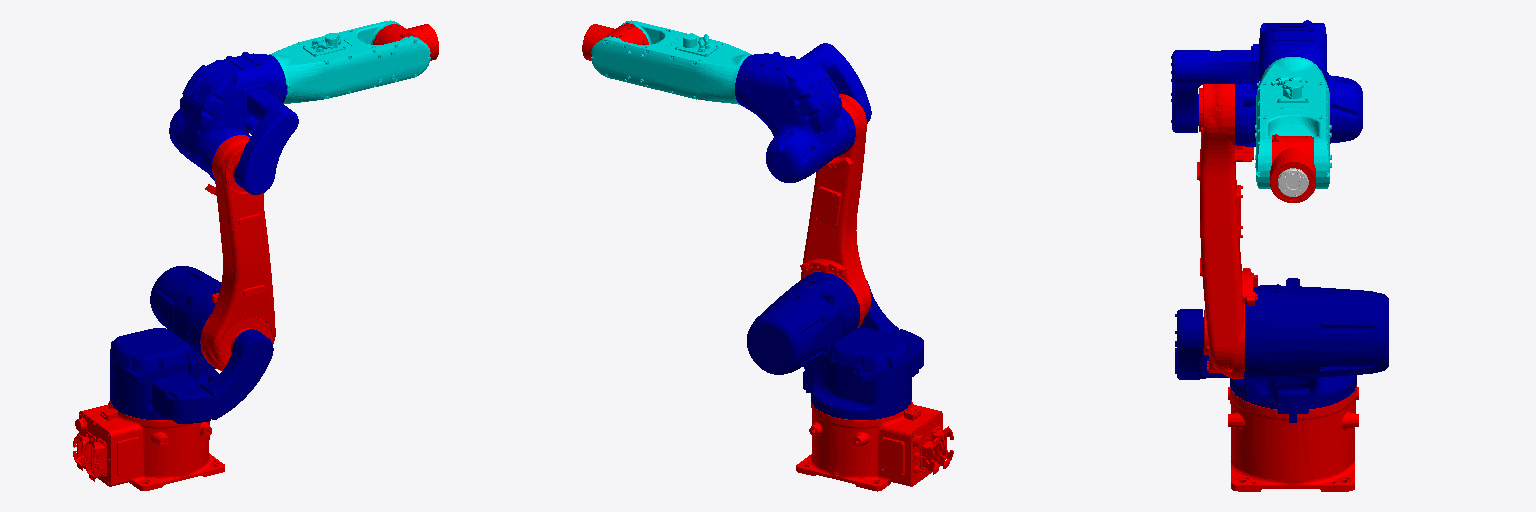
robot.urdf — ER15-1400:
<?xml version="1.0" encoding="utf-8"?>
<!-- This URDF was automatically created by SolidWorks to URDF Exporter! Originally created by [author] ([email redacted]) 
     Commit Version: 1.6.0-1-g15f4949  Build Version: 1.6.7594.29634
     For more information, please see http://wiki.ros.org/sw_urdf_exporter -->
<robot
  name="ER15-1400">
  <link
    name="base_link">
    <inertial>
      <origin
        xyz="0 0 0"
        rpy="0 0 0" />
      <mass
        value="100" />
      <inertia
        ixx="0"
        ixy="0"
        ixz="0"
        iyy="0"
        iyz="0"
        izz="100" />
    </inertial>
    <visual>
      <origin
        xyz="0 0 0"
        rpy="0 0 0" />
      <geometry>
        <mesh
          filename="./b_link.STL"  />
      </geometry>
      <material
        name="">
        <color
          rgba="1.0 0 0 1.0" />
      </material>
    </visual>
    <collision>
      <origin
        xyz="0 0 0"
        rpy="0 0 0" />
      <geometry>
        <mesh
          filename="./b_link.STL" />
      </geometry>
    </collision>
  </link>
  <link
    name="link_1">
    <inertial>
      <origin
        xyz="0.09835 -0.02908 -0.0995"
        rpy="0 0 0" />
      <mass
        value="54.52" />
      <inertia
        ixx="1.16916852"
        ixy="0.0865367"
        ixz="-0.47354118"
        iyy="1.39934751"
        iyz="0.11859959"
        izz="1.00920236" />
    </inertial>
    <visual>
      <origin
        xyz="0 0 -0.43"
        rpy="0 0 0" />
      <geometry>
        <mesh
          filename="./l_1.STL" />
      </geometry>
      <material
        name="">
        <color
          rgba="0 0 0.6 1.0" />
      </material>
    </visual>
    <collision>
      <origin
        xyz="0 0 -0.43"
        rpy="0 0 0" />
      <geometry>
        <mesh
          filename="./l_1.STL" />
      </geometry>
    </collision>
  </link>
  <joint
    name="joint_1"
    type="revolute">
    <origin
      xyz="0 0 0.43"
      rpy="0 0 0" />
    <parent
      link="base_link" />
    <child
      link="link_1" />
    <axis
      xyz="0 0 1" />
    <limit
      lower="-2.967"
      upper="2.967"
      effort="0"
      velocity="0" />
  </joint>
  <link
    name="link_2">
    <inertial>
      <origin
        xyz="0.25263 -0.00448 0.15471"
        rpy="0 0 0" />
      <mass
        value="11.11" />
      <inertia
        ixx="0.04507715"
        ixy="-0.00764148"
        ixz="-0.01800527"
        iyy="0.58269106"
        iyz="0.00057833"
        izz="0.60235638" />
    </inertial>
    <visual>
      <origin
        xyz="0 0 0"
        rpy="0   0 -1.5707963267" />
      <geometry>
        <mesh
          filename="./l_2.STL" />
      </geometry>
      <material
        name="">
        <color
          rgba="1.0 0 0 1.0" />
      </material>
    </visual>
    <collision>
      <origin
        xyz=" 0 0 0"
        rpy="0 0 -1.5707963267" />
      <geometry>
        <mesh
          filename="./l_2.STL" />
      </geometry>
    </collision>
  </link>
  <joint
    name="joint_2"
    type="revolute">
    <origin
      xyz="0.18 0 0"
      rpy="1.5707963267 -1.5707963267 0" />
    <parent
      link="link_1" />
    <child
      link="link_2" />
    <axis
      xyz="0 0 1" />
    <limit
      lower="-2.7925"
      upper="1.5707963267"
      effort="0"
      velocity="0" />
  </joint>
  <link
    name="link_3">
    <inertial>
      <origin
        xyz="0.03913 -0.02495 0.03337"
        rpy="0 0 0" />
      <mass
        value="25.03" />
      <inertia
        ixx="0.33717585"
        ixy="0.06955124"
        ixz="0.00142677"
        iyy="0.38576036"
        iyz="-0.00313441"
        izz="0.24095087" />
    </inertial>
    <visual>
      <origin
        xyz="0 0 0"
        rpy="0 0 -1.5707963267" />
      <geometry>
        <mesh
          filename="./l_3.STL" />
      </geometry>
      <material
        name="">
        <color
          rgba="0 0 0.8 1.0 " />
      </material>
    </visual>
    <collision>
      <origin
        xyz="0 0 0"
        rpy="0 0 -1.5707963267" />
      <geometry>
        <mesh
          filename="./l_3.STL" />
      </geometry>
    </collision>
  </link>
  <joint
    name="joint_3"
    type="revolute">
    <origin
      xyz="0.58 0 0"
      rpy="0 0 0" />
    <parent
      link="link_2" />
    <child
      link="link_3" />
    <axis
      xyz="0 0 1" />
    <limit
      lower="-1.4835"
      upper="3.0543"
      effort="0"
      velocity="0" />
  </joint>
  <link
    name="link_4">
    <inertial>
      <origin
        xyz="-0.00132	-0.0012	-0.30035"
        rpy="0 0 0" />
      <mass
        value="10.81" />
      <inertia
        ixx="0.28066314"
        ixy="-0.00003381"
        ixz="0.00084678"
        iyy="0.27142738"
        iyz="0.00437676"
        izz="0.04425281" />
    </inertial>
    <visual>
      <origin
        xyz="0 0 -0.64"
        rpy=" 3.141592653 0 -1.5707963267 " />
      <geometry>
        <mesh
          filename="./l_4.STL" />
      </geometry>
      <material
        name="">0
        <color
          rgba="0 0.9 0.9 1.0" />
      </material>
    </visual>
    <collision>
      <origin
        xyz="0 0 -0.64"
        rpy="3.141592653 0 -1.5707963267" />
      <geometry>
        <mesh
          filename="./l_4.STL" />
      </geometry>
    </collision>
  </link>
  <joint
    name="joint_4"
    type="revolute">
    <origin
      xyz="0.16 -0.64 0"
      rpy="-1.5707963267 0 3.141592653" />
    <parent
      link="link_3" />
    <child
      link="link_4" />
    <axis
      xyz="0 0 1" />
    <limit
      lower="-3.316"
      upper="3.316"
      effort="0"
      velocity="0" />
  </joint>
  <link
    name="link_5">
    <inertial>
      <origin
        xyz="0.0004 -0.03052 0.01328"
        rpy="0 0 0" />
      <mass
        value="4.48" />
      <inertia
        ixx="0.01710138"
        ixy="-0.00002606"
        ixz="0.00000867"
        iyy="0.01098115"
        iyz="-0.00175535"
        izz="0.01408541" />
    </inertial>
    <visual>
      <origin
        xyz="0 0 0"
        rpy="0 0 -1.5707963267 " />
      <geometry>
        <mesh
          filename="./l_5.STL" />
      </geometry>
      <material
        name="">
        <color
          rgba="1.0 0 0 1.0" />
      </material>
    </visual>
    <collision>
      <origin
        xyz="0 0 0"
        rpy="0 0 -1.5707963267 " />
      <geometry>
        <mesh
          filename="./l_5.STL" />
      </geometry>
    </collision>
  </link>
  <joint
    name="joint_5"
    type="revolute">
    <origin
      xyz="0 0 0"
      rpy="-1.5707963267 0 3.141592653" />
    <parent
      link="link_4" />
    <child
      link="link_5" />
    <axis
      xyz="0 0 1" />
    <limit
      lower="-2.2689"
      upper="2.2689"
      effort="0"
      velocity="0" />
  </joint>
  <link
    name="link_6">
    <inertial>
      <origin
        xyz="0 0 0"
        rpy="0 0 0" />
      <mass
        value="0.28" />
      <inertia
        ixx="0.0001346961"
        ixy="0.0000076"
        ixz="-0.00000827"
        iyy="0.0001645611"
        iyz="0.000118982	"
        izz="0.001539171" />
    </inertial>
    <visual>
      <origin
        xyz="0 0 0"
        rpy="3.141592653 0 1.5707963267" />
      <geometry>
        <mesh
          filename="./l_6.STL" />
      </geometry>
      <material
        name="">
        <color
          rgba="0.9 0.9 0.9 1.0" />
      </material>
    </visual>
    <collision>
      <origin
        xyz="0 0 0"
        rpy="3.141592653 0 1.5707963267" />
      <geometry>
        <mesh
          filename="./l_6.STL" />
      </geometry>
    </collision>
  </link>
  <joint
    name="joint_6"
    type="revolute">
    <origin
      xyz="0 -0.116 0"
      rpy="1.5707963267 0 0" />
    <parent
      link="link_5" />
    <child
      link="link_6" />
    <axis
      xyz="0 0 1" />
    <limit
      lower="-6.2832"
      upper="6.2832"
      effort="0"
      velocity="0" />
  </joint>
</robot>

--- What the picture shows (computed from the rendered views, not written in the file) ---
3 views of the same robot in one strip: view 1: azimuth 30°, elevation 25°; view 2: azimuth 150°, elevation 25°; view 3: azimuth 270°, elevation 25° (orthographic).
Robot: ER15-1400 — 7 links, 6 joints (6 revolute); root link base_link; default pose: every joint at zero.
Visible links, largest first — view 1: link_1, link_3, link_2, base_link, link_4, link_5; view 2: link_1, link_3, base_link, link_4, link_2, link_5; view 3: link_1, link_2, base_link, link_3, link_4, link_5, link_6.
Link boxes in pixels (left/top/right/bottom): link_1: left=110, top=266, right=273, bottom=423; link_3: left=169, top=52, right=298, bottom=194; link_2: left=200, top=135, right=275, bottom=370; base_link: left=73, top=401, right=224, bottom=490; link_4: left=269, top=20, right=430, bottom=103; link_5: left=373, top=24, right=438, bottom=60; link_1: left=747, top=272, right=923, bottom=419; link_3: left=735, top=43, right=871, bottom=182; base_link: left=796, top=400, right=953, bottom=491; link_4: left=591, top=20, right=751, bottom=104; link_2: left=800, top=94, right=871, bottom=327; link_5: left=582, top=22, right=648, bottom=60; link_1: left=1175, top=278, right=1388, bottom=422; link_2: left=1197, top=84, right=1257, bottom=378; base_link: left=1228, top=385, right=1358, bottom=491; link_3: left=1171, top=20, right=1362, bottom=146; link_4: left=1255, top=57, right=1331, bottom=188; link_5: left=1270, top=134, right=1315, bottom=202; link_6: left=1278, top=168, right=1308, bottom=196.
Size in the robot's own frame: 1.21 by 0.5166 by 1.27 metres.
7 mesh visuals loaded from 7 distinct referenced files (7 binary STL).